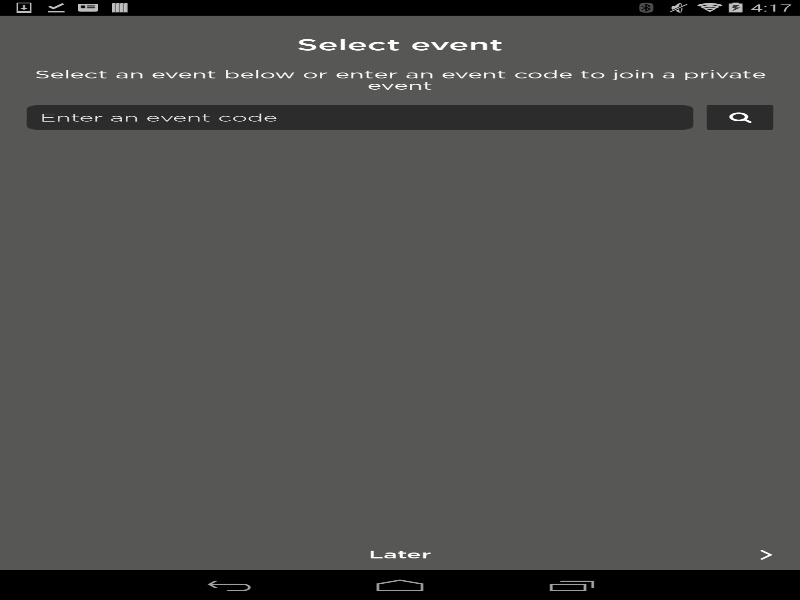Button: (0, 538, 800, 570), (733, 539, 800, 569)
Input: (26, 105, 693, 130)
